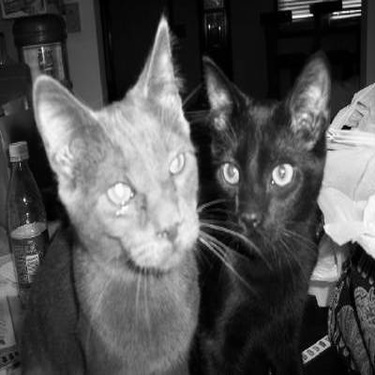cat: (17, 8, 195, 369), (188, 53, 334, 364)
